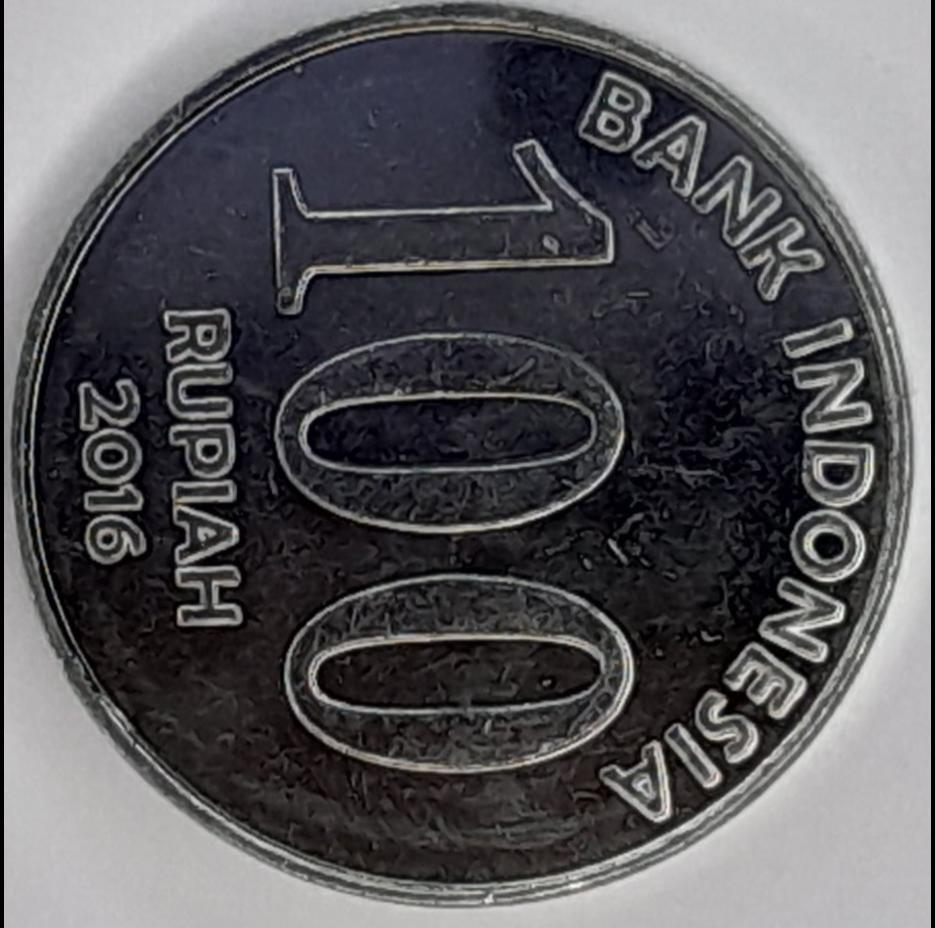coin_100_e2016: (7, 0, 918, 909)
